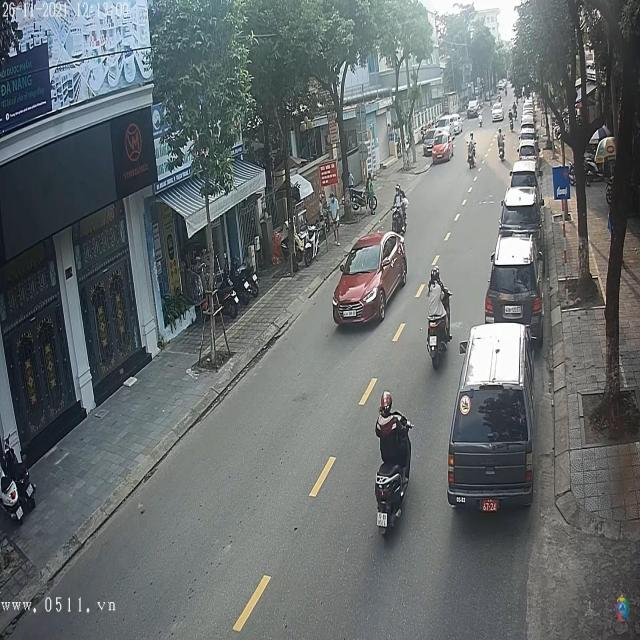car: (449, 324, 535, 509), (331, 233, 409, 329), (485, 238, 543, 330), (501, 181, 542, 233), (518, 138, 537, 158), (468, 100, 481, 118), (492, 111, 506, 124)
motorcycle: (376, 468, 408, 533), (424, 297, 452, 367), (467, 146, 478, 173)
